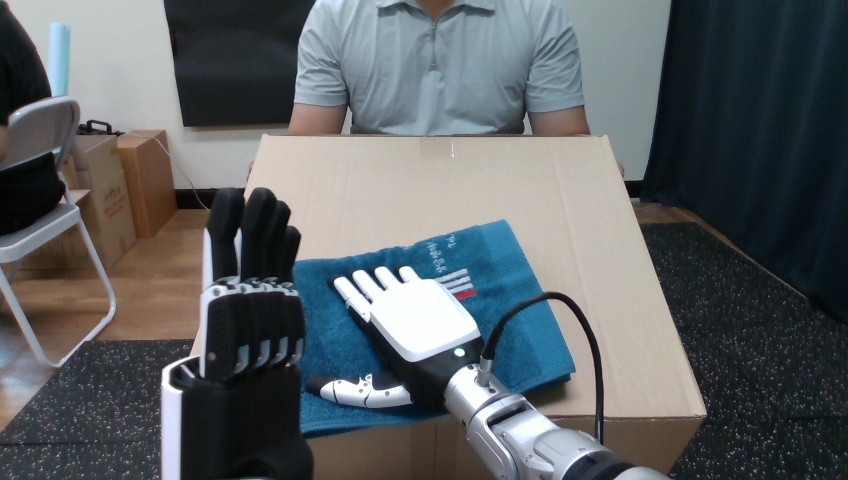left robot hand: (307, 266, 667, 479), (161, 187, 312, 478), (492, 298, 597, 438)
